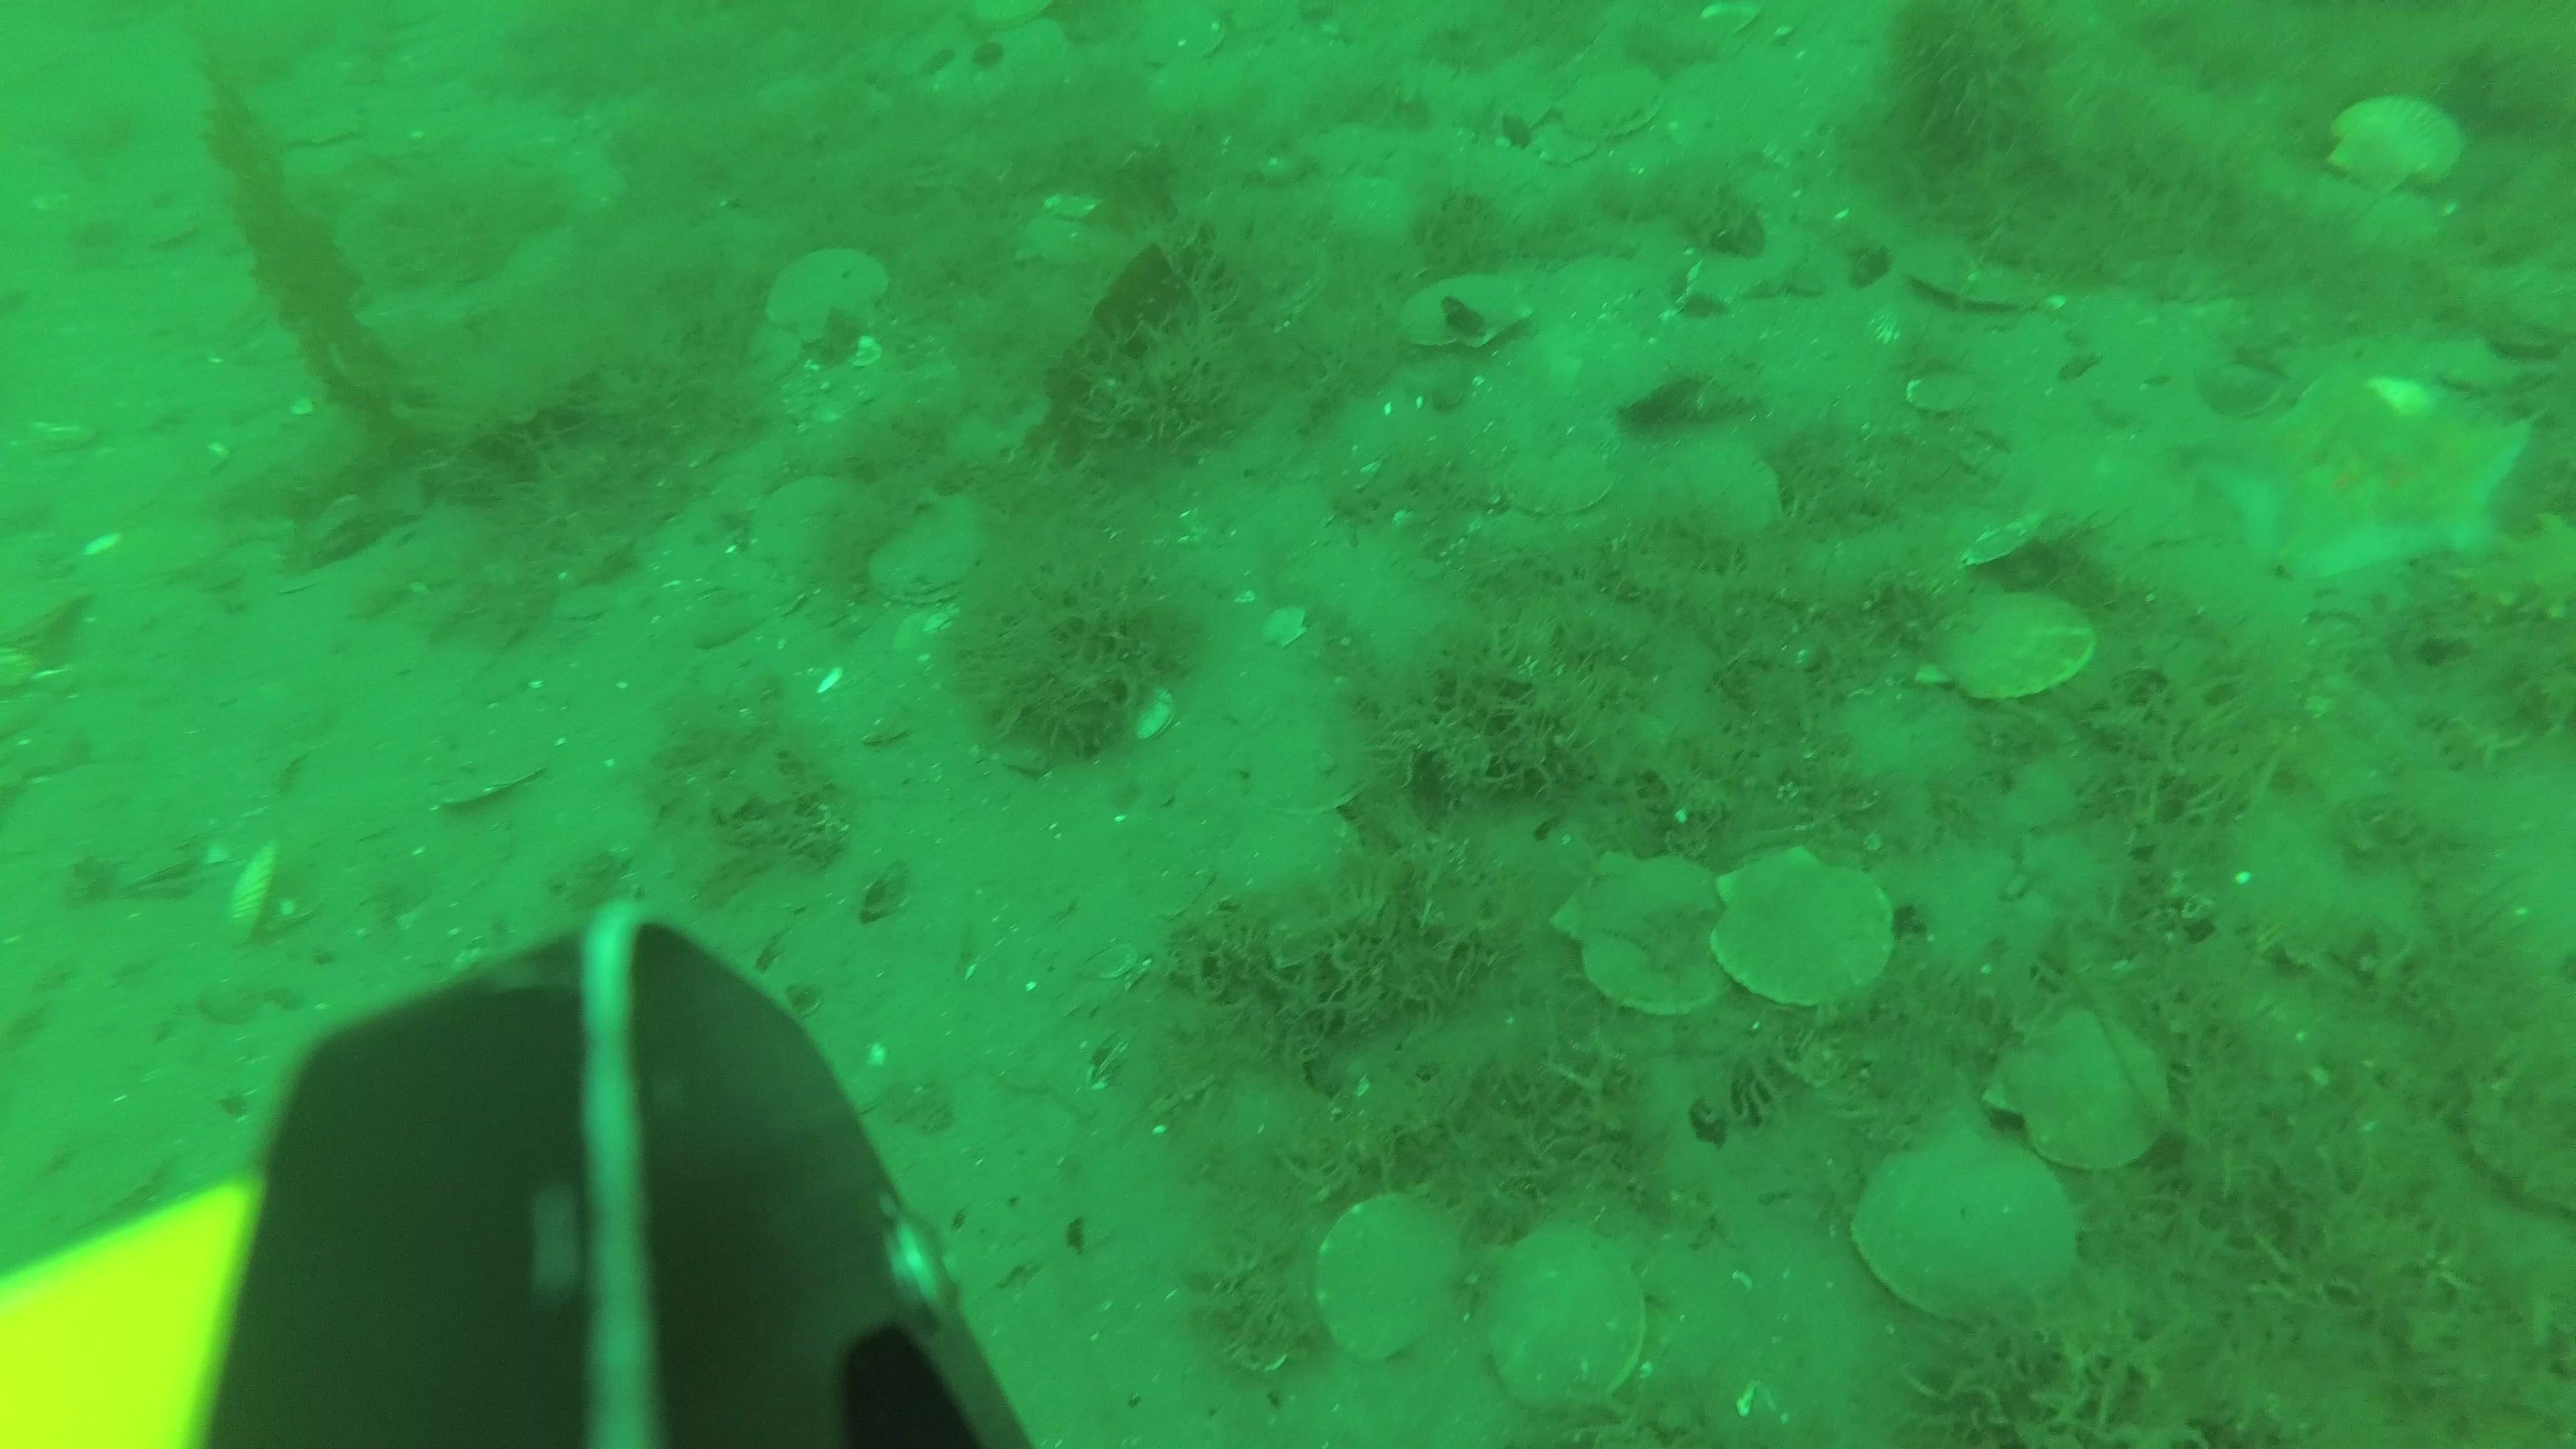holothurian: (2457, 499, 2576, 626)
scallop: (1856, 1136, 2088, 1330), (1479, 1212, 1652, 1414), (1559, 847, 1752, 1021), (1709, 839, 1891, 1010), (1477, 329, 1683, 472), (1989, 1016, 2166, 1166), (1313, 1201, 1474, 1353), (1523, 237, 1674, 379), (1937, 586, 2097, 701), (2337, 87, 2463, 202), (1668, 435, 1782, 559), (874, 501, 996, 614), (743, 476, 867, 586), (763, 251, 890, 352), (1399, 271, 1536, 361), (1904, 248, 2031, 329), (1559, 55, 1677, 142), (1499, 437, 1614, 524), (5, 577, 92, 665), (1145, 14, 1231, 80)
starfish: (2196, 384, 2539, 614)
